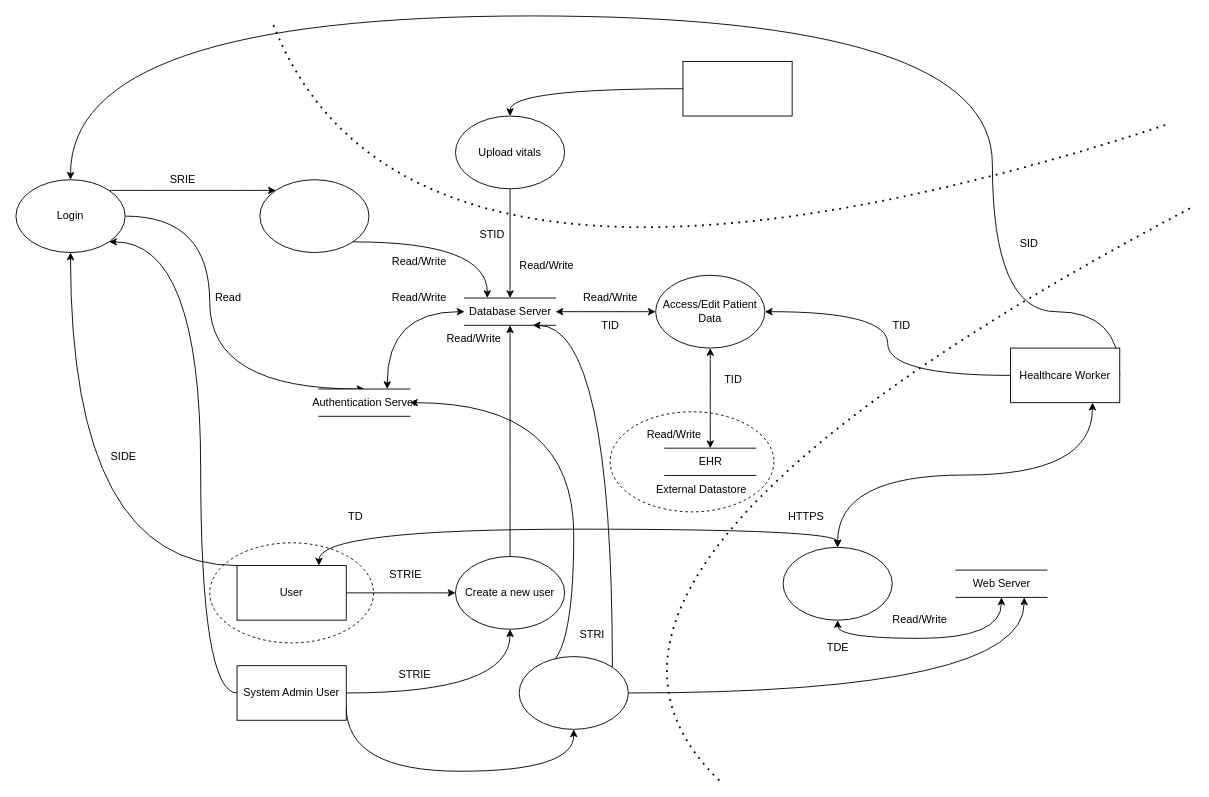
The diagram is 1209 pixels wide and 797 high, and some of its shapes have lost their labels. The box of each missing label's shape, as (x1, y1, x2, y2) in pixels:
Access/Upload own Patient data: (259, 179, 369, 253)
IT Maintenance: (518, 656, 628, 729)
Patient at-home Device: (682, 61, 792, 116)
Video and Voice transfer: (782, 546, 892, 620)
